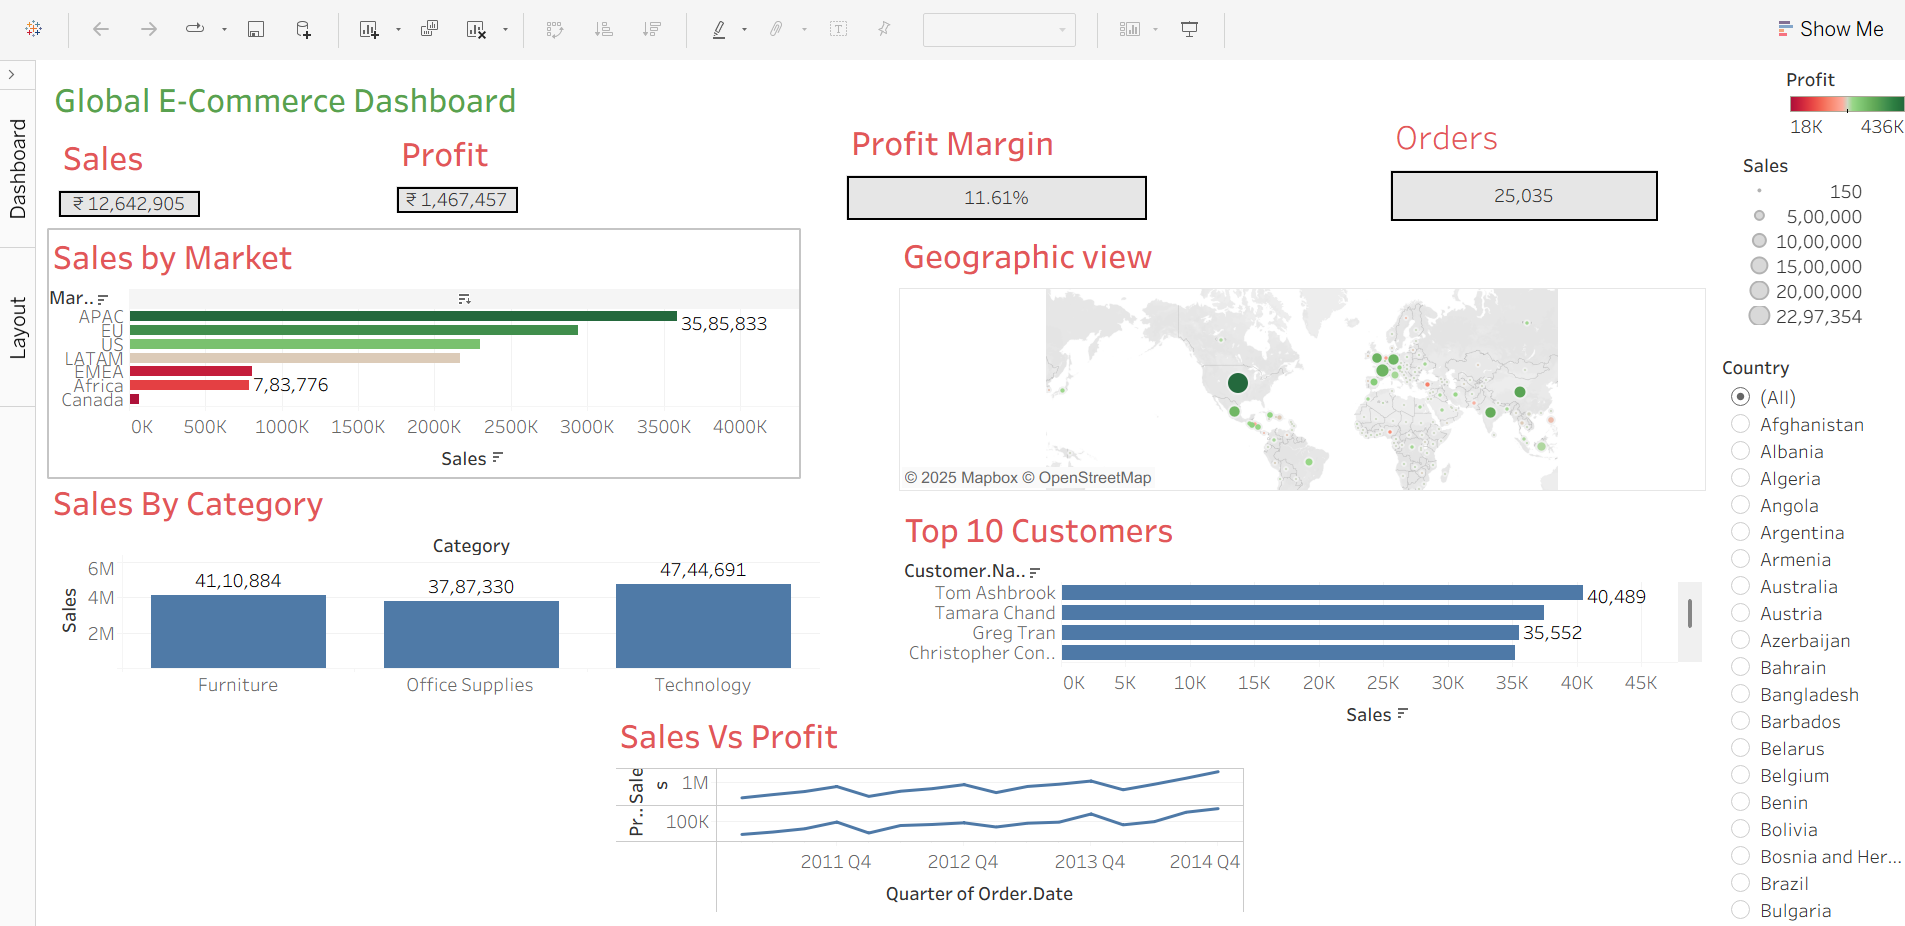

This screenshot's page, from the dashboard's own definition file:
{"tool":"tableau","page":{"name":"Dashboard ","canvas":[1000,1000],"units":"permille","ordinal":0},"visuals":[{"type":"legend","title":"Sales by ","param":"[federated.07srxhn0iukxvh1a0txir042vomo].[sum:Profit:qk]","box":[929.7,6.9,65.3,77.4]},{"type":"text","box":[7.5,19.6,293.6,50.8]},{"type":"worksheet","title":"KPI Card 4","mark":"Automatic","box":[719.4,57.7,142.5,128.2]},{"type":"worksheet","title":"KPI Card 3","mark":"Automatic","box":[430.6,64.7,160.1,120.1]},{"type":"worksheet","title":"KPI Card 2","mark":"Automatic","box":[191.5,77.4,172,132.8]},{"type":"worksheet","title":"KPI Card 1","mark":"Automatic","box":[11.9,82,156.3,110.9]},{"type":"legend","title":"Geographic View","param":"[federated.07srxhn0iukxvh1a0txir042vomo].[sum:Sales:qk]","box":[907.1,106.2,87.9,203.2]},{"type":"worksheet","title":"Geographic View","mark":"Automatic","box":[458.6,195.2,428.8,302.5]},{"type":"worksheet","title":"Sales by ","mark":"Automatic","rows":["Market"],"cols":["Sales"],"box":[6.9,196.3,398.5,285.2]},{"type":"worksheet","title":"Sales by category","mark":"Automatic","rows":["Sales"],"cols":["Category"],"box":[6.9,480.4,409.7,255.2]},{"type":"worksheet","title":"Top Customers","mark":"Automatic","rows":["Customer.Name"],"cols":["Sales"],"box":[459.6,511.6,425.6,265.6]},{"type":"worksheet","title":"time trend","mark":"Automatic","rows":["Sales","Profit"],"cols":["Order.Date"],"box":[308.2,749.4,333.7,235.6]}]}

Visuals, with their boxes on the dashboard's canvas, which has no fixed pixel size, in thousandths of its width and height (x1, y1, x2, y2). These are canvas units, not pixel positions in the 1905x926 screenshot, which may show the page scaled, cropped or inside an application window:
"Sales by " legend: rect(930, 7, 995, 84)
text: rect(8, 20, 301, 70)
"KPI Card 4" worksheet: rect(719, 58, 862, 186)
"KPI Card 3" worksheet: rect(431, 65, 591, 185)
"KPI Card 2" worksheet: rect(192, 77, 364, 210)
"KPI Card 1" worksheet: rect(12, 82, 168, 193)
"Geographic View" legend: rect(907, 106, 995, 309)
"Geographic View" worksheet: rect(459, 195, 887, 498)
"Sales by " worksheet: rect(7, 196, 405, 482)
"Sales by category" worksheet: rect(7, 480, 417, 736)
"Top Customers" worksheet: rect(460, 512, 885, 777)
"time trend" worksheet: rect(308, 749, 642, 985)
